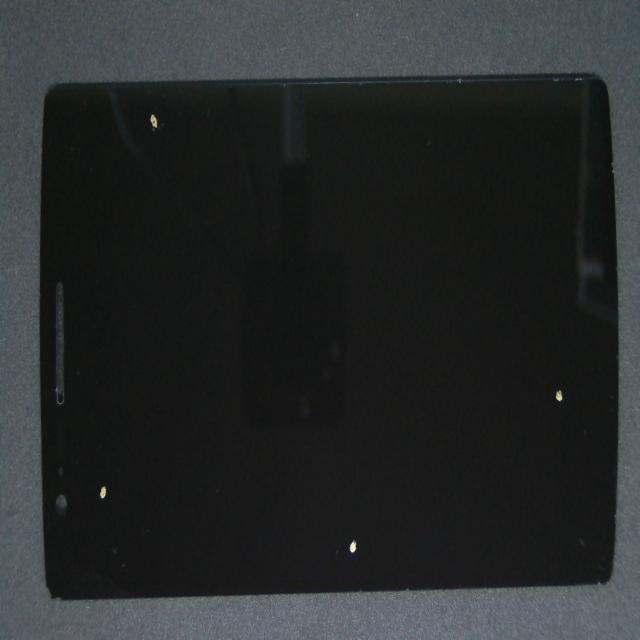stain: (172, 219, 513, 640), (297, 154, 640, 561), (49, 198, 142, 640), (109, 54, 248, 155)
